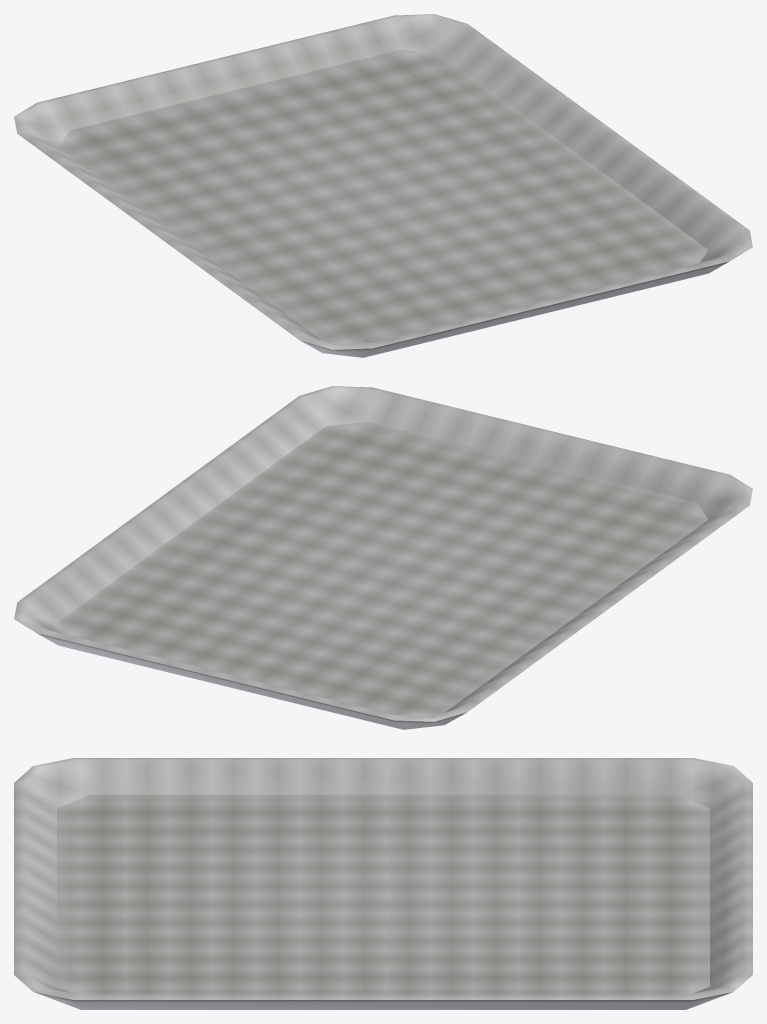
File: jsf_Tray_04.fbx
3 renders of one model, top to bottom at view 1: azimuth 30°, elevation 25°; view 2: azimuth 150°, elevation 25°; view 3: azimuth 270°, elevation 25°, orthographic. The views are drawn at different scales.
Parts seen in each view (by area): view 1: jsf_Tray_04; view 2: jsf_Tray_04; view 3: jsf_Tray_04.
Boxes of the visible parts, left/top/right/bottom form: jsf_Tray_04: left=14, top=14, right=752, bottom=357; jsf_Tray_04: left=14, top=386, right=752, bottom=729; jsf_Tray_04: left=14, top=758, right=752, bottom=1009.
Bounding box in the file's own units: 21.76 × 1.1 × 28.1.
